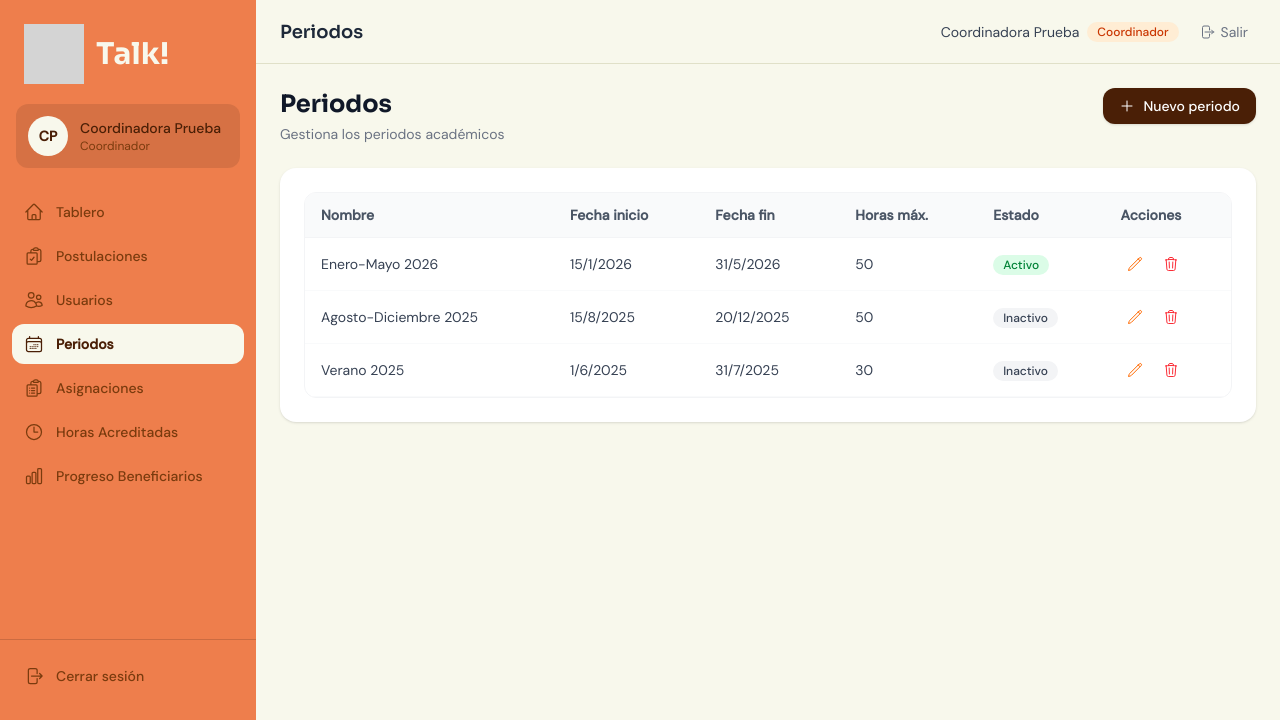
Periodos › opens edit periodo modal with preloaded data
The width and height of the screenshot is (1280, 720).
Click the 3rd button.
click(1135, 264)  # box [1121, 250, 1149, 278]
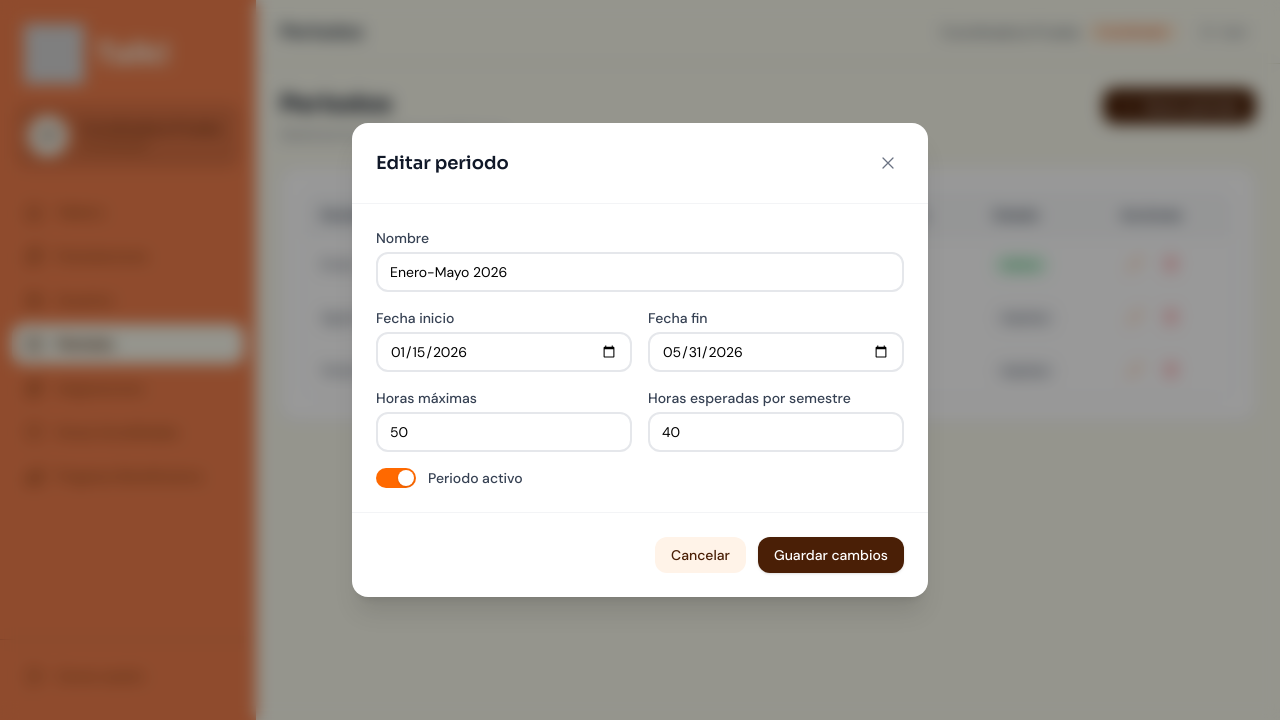
Check: the heading "Editar periodo" is shown, box [376, 149, 509, 177]
Check: the field named "nombre" holds "Enero-Mayo 2026", box [376, 252, 904, 292]
Check: the number field named "horas_max" below "Horas máximas" holds "50", box [376, 412, 632, 452]
